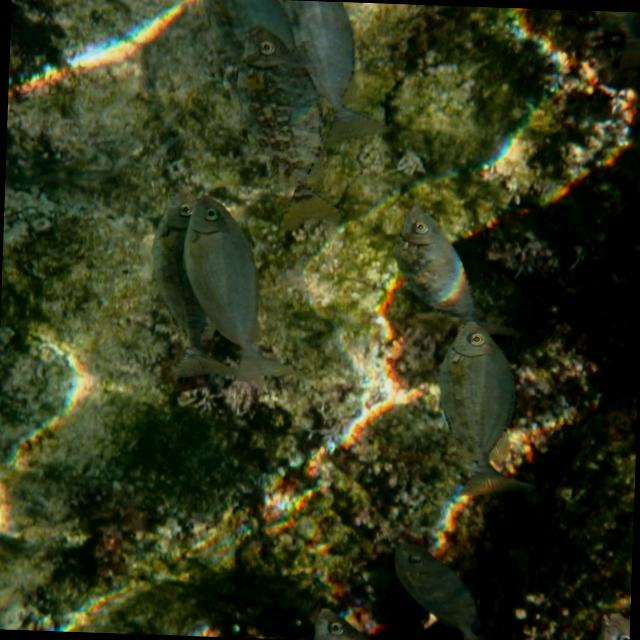Sokar Baligi: (124, 177, 304, 417), (425, 318, 551, 508), (385, 535, 509, 640)
